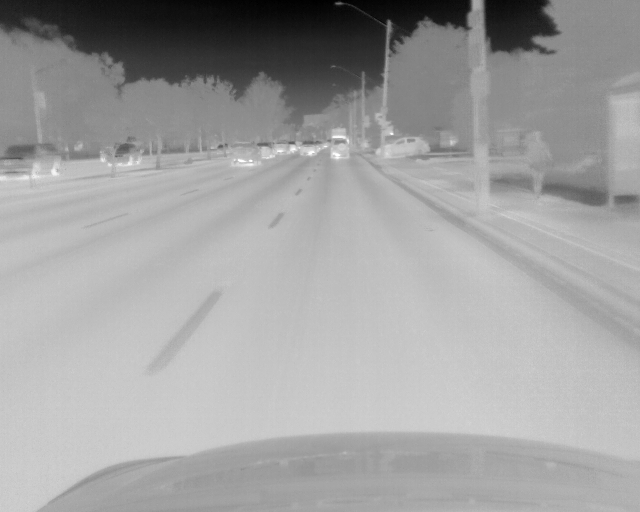car: (1, 142, 63, 184), (375, 136, 429, 161), (103, 142, 142, 170), (230, 142, 260, 167), (327, 129, 350, 161), (299, 141, 317, 157), (258, 142, 275, 158), (274, 140, 291, 156), (291, 142, 298, 154)
people: (522, 129, 554, 206)
